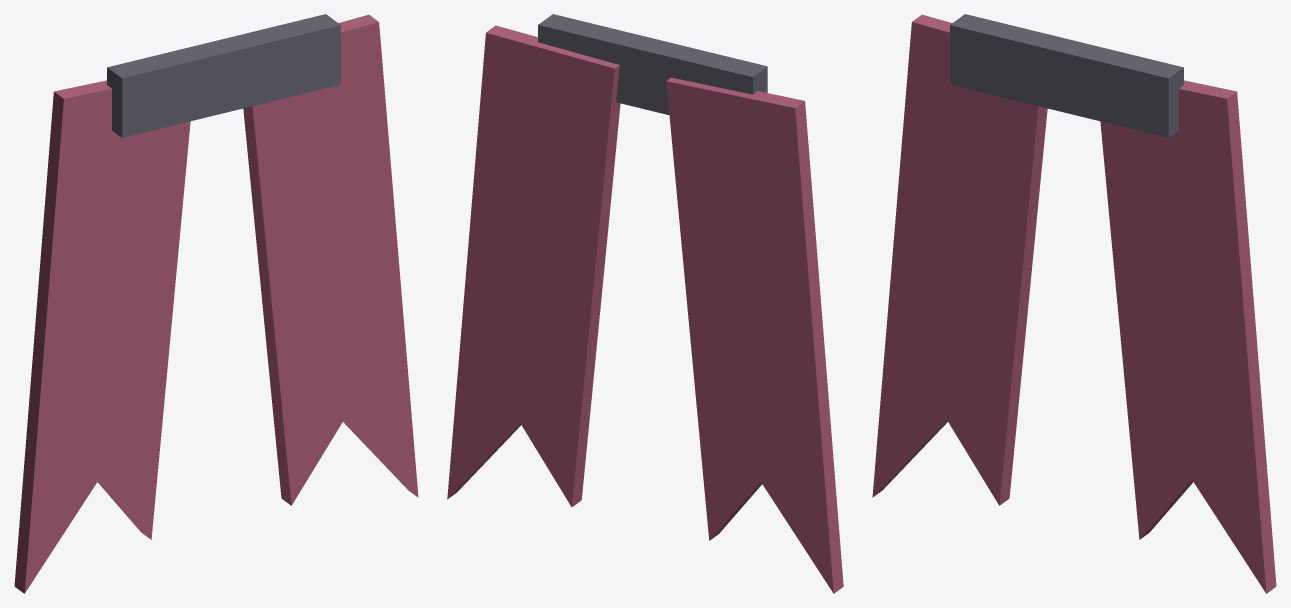
File: ACC_Ribbon_DoubleTail.glb
3 renders of one model, left to right at view 1: azimuth 30°, elevation 25°; view 2: azimuth 150°, elevation 25°; view 3: azimuth 330°, elevation 25°, orthographic.
Parts seen in each view (by area): view 1: ACC_Ribbon_DoubleTail_1, ACC_Ribbon_DoubleTail_2, ACC_Ribbon_DoubleTail_3; view 2: ACC_Ribbon_DoubleTail_1, ACC_Ribbon_DoubleTail_2, ACC_Ribbon_DoubleTail_3; view 3: ACC_Ribbon_DoubleTail_2, ACC_Ribbon_DoubleTail_1, ACC_Ribbon_DoubleTail_3.
Boxes of the visible parts, <box> form: ACC_Ribbon_DoubleTail_1: <box>14,80,190,593</box>; ACC_Ribbon_DoubleTail_2: <box>243,14,418,505</box>; ACC_Ribbon_DoubleTail_3: <box>107,14,340,137</box>; ACC_Ribbon_DoubleTail_1: <box>666,77,843,593</box>; ACC_Ribbon_DoubleTail_2: <box>447,25,620,507</box>; ACC_Ribbon_DoubleTail_3: <box>538,14,767,114</box>; ACC_Ribbon_DoubleTail_2: <box>1100,80,1276,593</box>; ACC_Ribbon_DoubleTail_1: <box>872,14,1047,505</box>; ACC_Ribbon_DoubleTail_3: <box>950,14,1183,137</box>.
Bounding box in the file's own units: 0.09 × 0.1095 × 0.008.
